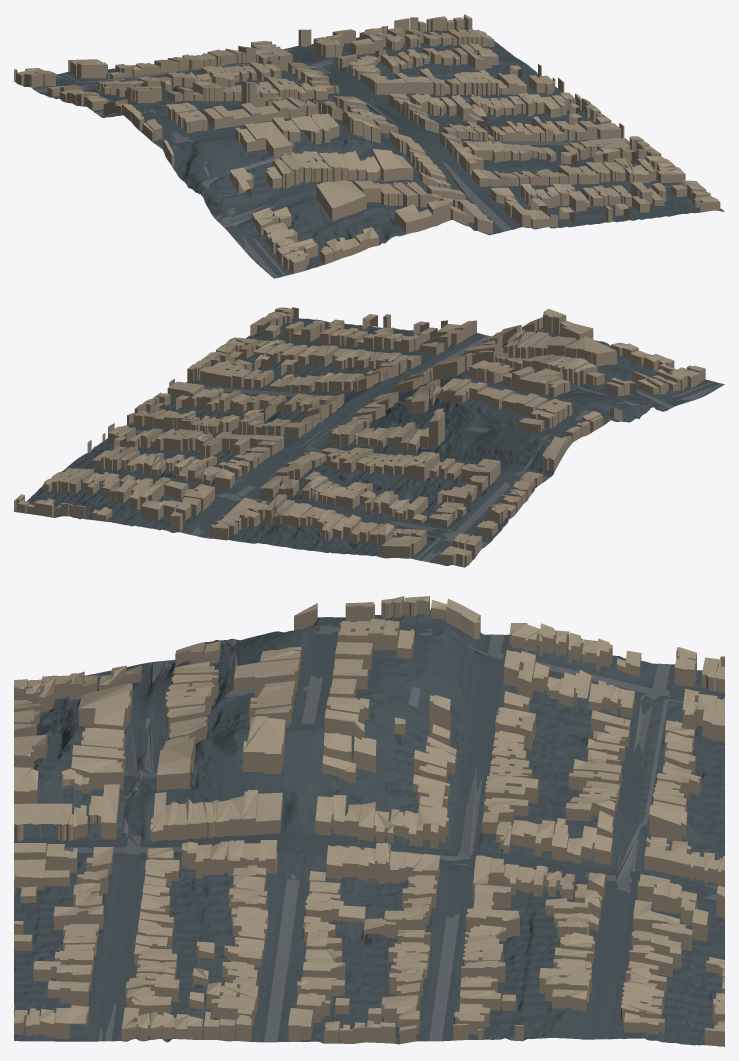
File: epsg26910-1432-10879.lod0.glb
3 views of the same model, one above another, from view 1: azimuth 30°, elevation 25°; view 2: azimuth 150°, elevation 25°; view 3: azimuth 270°, elevation 25° (orthographic). The views are drawn at different scales.
Parts seen in each view (by area): view 1: epsg26910-1432-10879-lod0; view 2: epsg26910-1432-10879-lod0; view 3: epsg26910-1432-10879-lod0.
Part boxes in pixels (box(x1,y1,x2,y2)): epsg26910-1432-10879-lod0: box(14, 14, 724, 278); epsg26910-1432-10879-lod0: box(14, 307, 724, 567); epsg26910-1432-10879-lod0: box(14, 596, 724, 1046).
Bounding box in the file's own units: 384 × 89.76 × 384.
